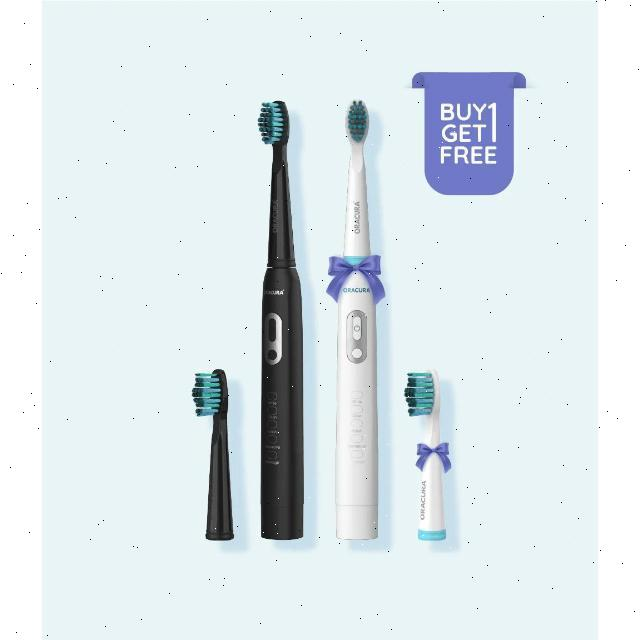toothbrush: (237, 78, 327, 574)
